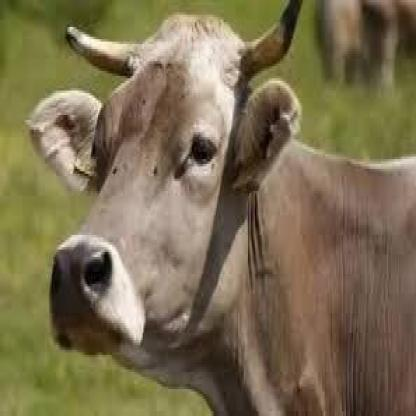cow: (24, 0, 416, 414), (312, 0, 416, 91)
